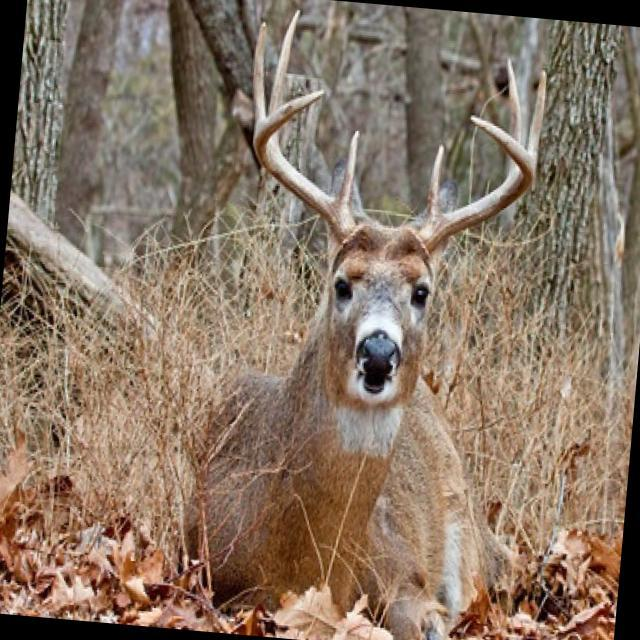L-F: (409, 114, 534, 257)
L-G1: (426, 143, 445, 221)
R-F: (252, 88, 361, 245)
R-G1: (335, 129, 360, 210)
